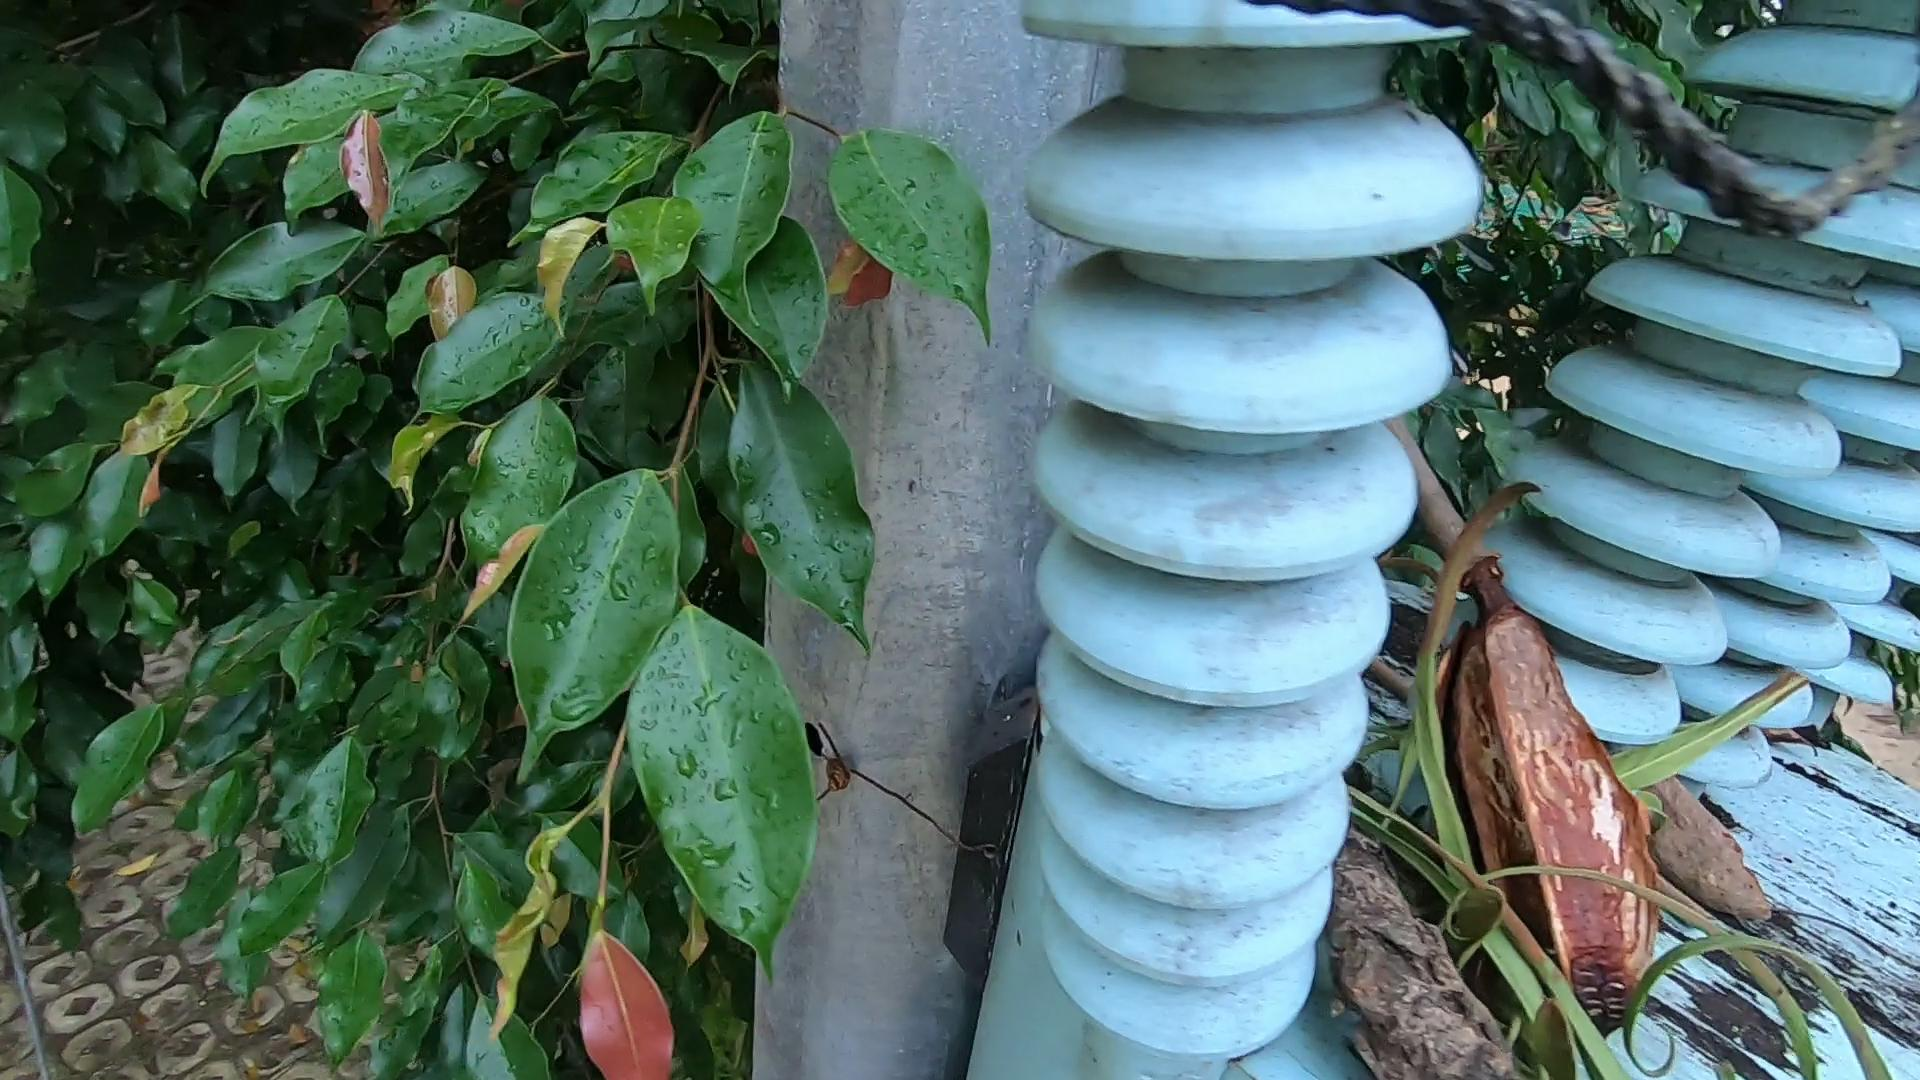branch with leaves: (1253, 703, 1619, 1080)
leaf: (1743, 655, 1888, 815)
mahogany fruit: (1416, 545, 1601, 932), (1639, 711, 1818, 988)
tree branch: (1316, 287, 1506, 580), (1358, 615, 1425, 727)
